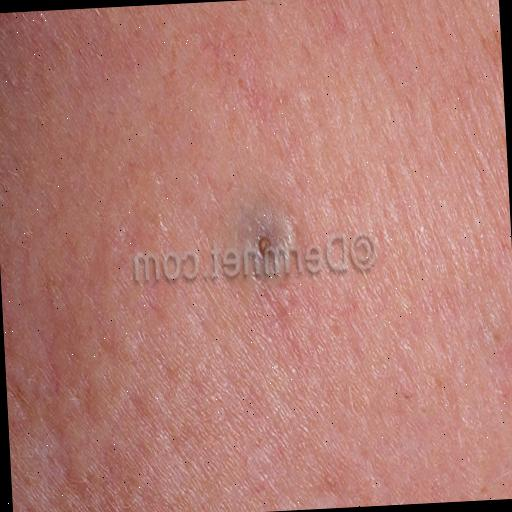Skin_Lesion: (230, 190, 296, 290), (239, 426, 280, 497), (52, 304, 94, 364), (104, 307, 138, 362), (320, 0, 354, 48), (337, 294, 367, 331), (125, 6, 147, 48), (28, 23, 56, 55), (484, 319, 506, 357), (392, 378, 410, 410)
